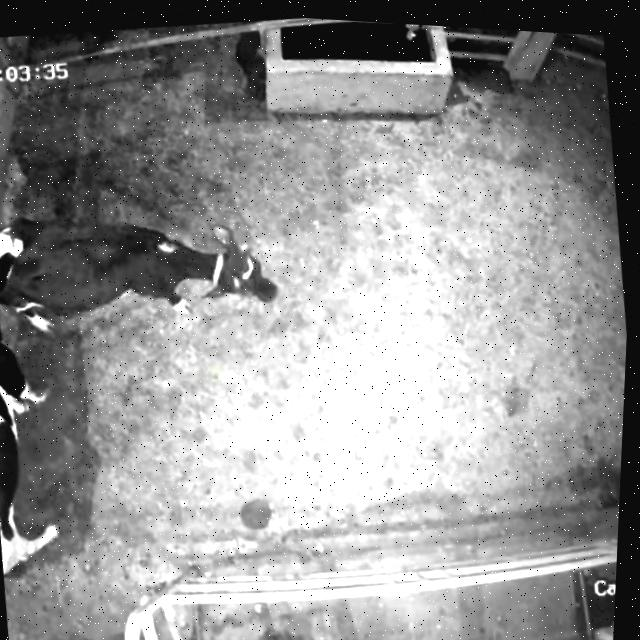propping: (0, 205, 59, 354)
